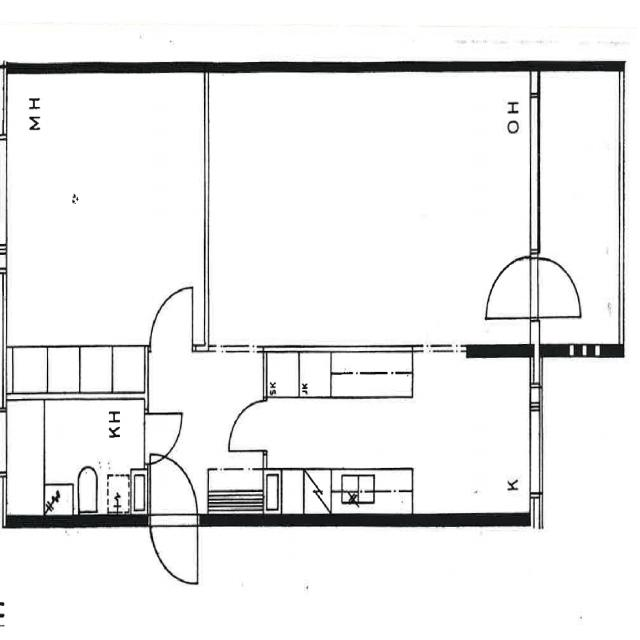door: (151, 513, 198, 590), (151, 448, 198, 525), (487, 257, 540, 317), (530, 257, 583, 317), (151, 286, 192, 351), (145, 414, 184, 463)
